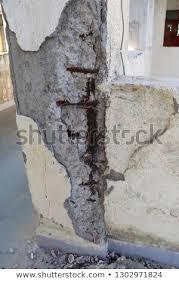exposed_rebar: (57, 66, 99, 202)
spalling: (9, 0, 106, 244)
